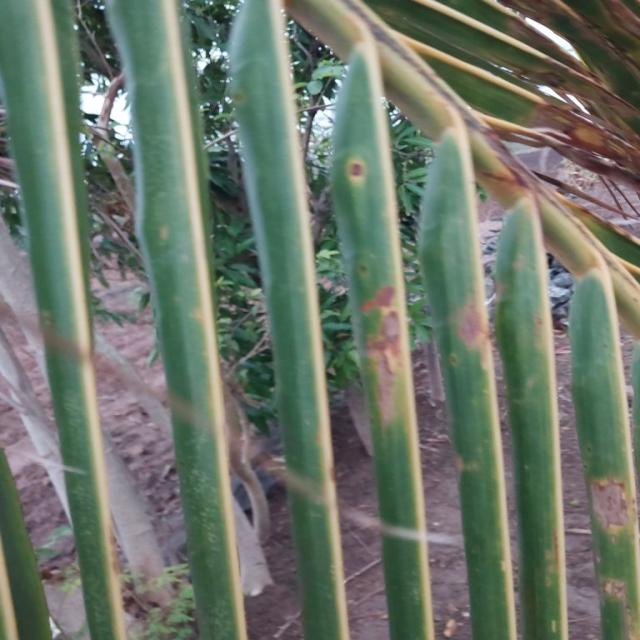gray leaf spot: (322, 0, 640, 288), (328, 46, 427, 575), (416, 148, 509, 560), (570, 402, 637, 624)
